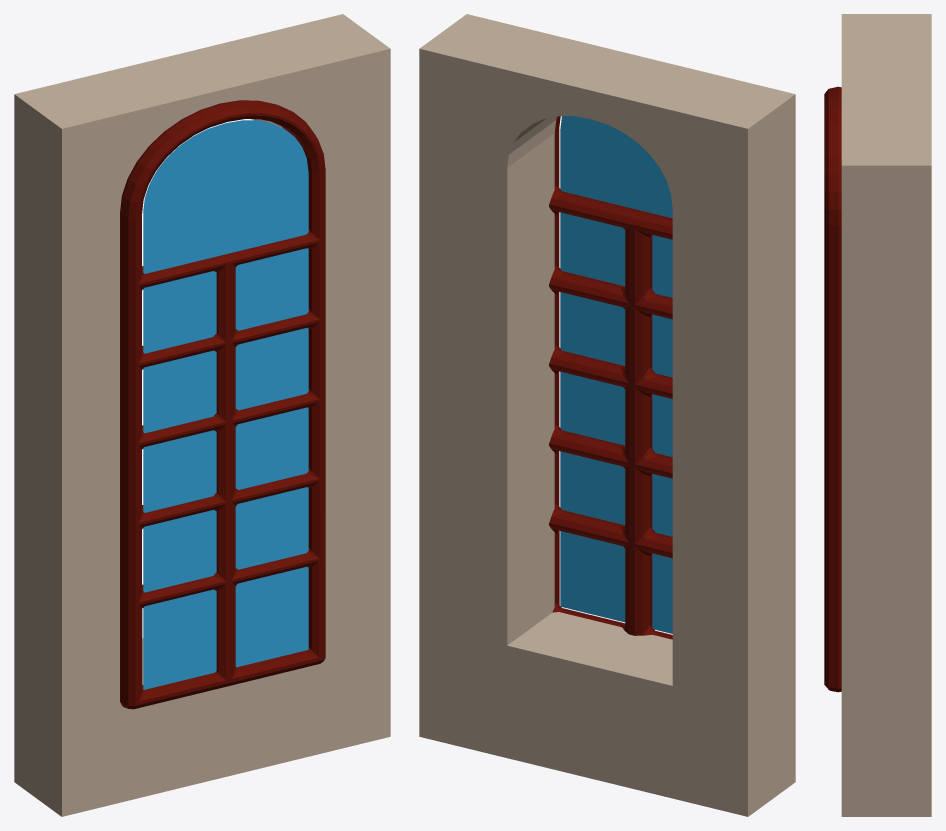
File: WindowTall-1.glb
The picture shows the model from 3 angles, left to right: view 1: azimuth 30°, elevation 25°; view 2: azimuth 150°, elevation 25°; view 3: azimuth 270°, elevation 25°; orthographic projection. The views are drawn at different scales.
Visible parts, largest first — view 1: WindowTall-1-Top.001, WindowTall-1-Bot.001, Glass.001, WindowFrame.001; view 2: WindowTall-1-Bot.001, WindowTall-1-Top.001, Glass.001, WindowFrame.001; view 3: WindowTall-1-Top.001, WindowTall-1-Bot.001, WindowFrame.001.
Part boxes in pixels (left/top/right/bottom): WindowTall-1-Top.001: left=14, top=14, right=390, bottom=472; WindowTall-1-Bot.001: left=14, top=393, right=390, bottom=816; Glass.001: left=143, top=120, right=308, bottom=689; WindowFrame.001: left=120, top=100, right=325, bottom=709; WindowTall-1-Bot.001: left=419, top=380, right=795, bottom=816; WindowTall-1-Top.001: left=419, top=14, right=795, bottom=472; Glass.001: left=560, top=116, right=672, bottom=633; WindowFrame.001: left=549, top=116, right=672, bottom=639; WindowTall-1-Top.001: left=841, top=14, right=931, bottom=491; WindowTall-1-Bot.001: left=841, top=491, right=931, bottom=816; WindowFrame.001: left=824, top=86, right=841, bottom=692.
Size of the model in its own units: 2 by 4 by 0.596.
